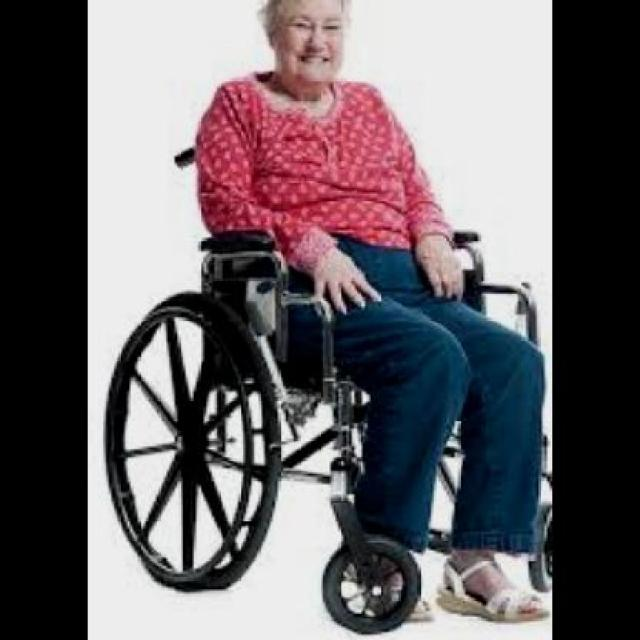wheelchairs: (102, 146, 553, 636)
